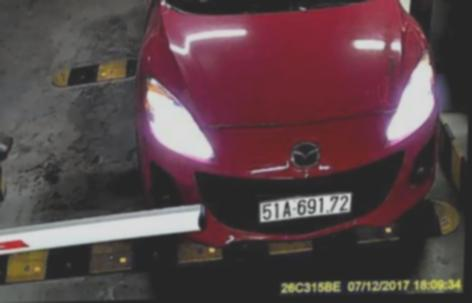License_Plate: (252, 192, 355, 224)
